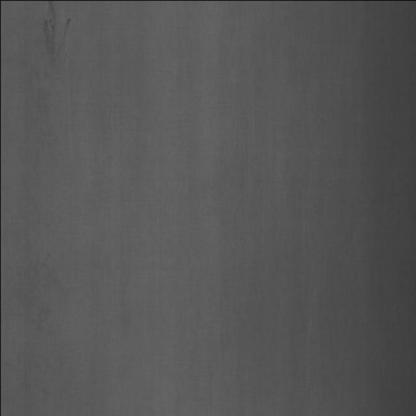water_spot: (37, 7, 76, 79)
